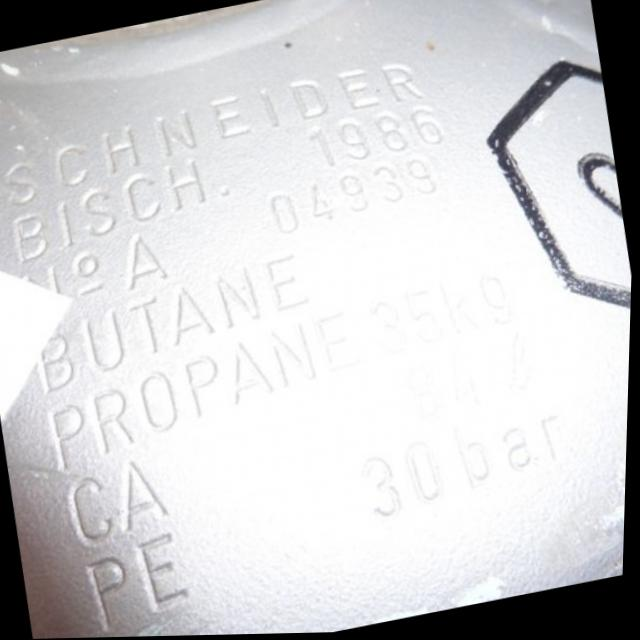ocr: (0, 44, 432, 216), (39, 305, 370, 484), (29, 242, 327, 395), (7, 150, 219, 279), (261, 148, 447, 249), (79, 524, 199, 638), (55, 452, 177, 564), (297, 99, 452, 178), (43, 224, 179, 312)
